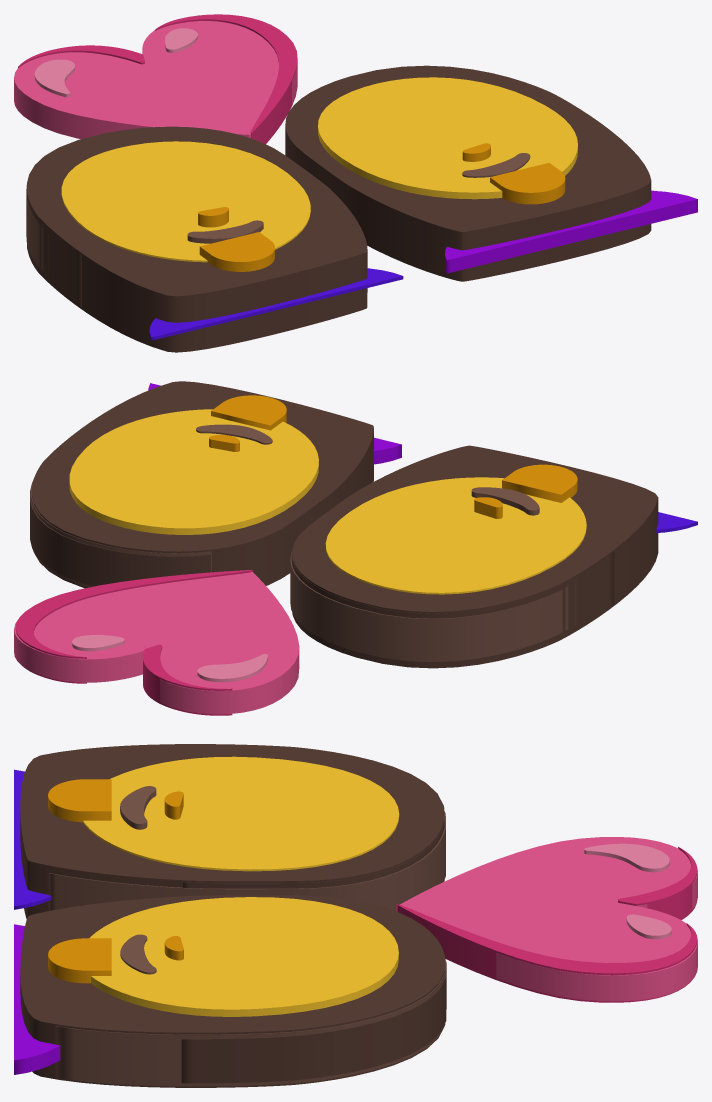
Rendered from emoji_u1f469_200d_2764_200d_1f469.glb.
The picture shows the model from 3 angles, top to bottom: view 1: azimuth 30°, elevation 25°; view 2: azimuth 150°, elevation 25°; view 3: azimuth 270°, elevation 25°; orthographic projection. The views are drawn at different scales.
Parts seen in each view (by area): view 1: emoji_u1f469_200d_2764_200d_1f469; view 2: emoji_u1f469_200d_2764_200d_1f469; view 3: emoji_u1f469_200d_2764_200d_1f469.
Part boxes in pixels (x1,y1,x2,y2): emoji_u1f469_200d_2764_200d_1f469: (14, 14, 697, 352); emoji_u1f469_200d_2764_200d_1f469: (14, 381, 697, 715); emoji_u1f469_200d_2764_200d_1f469: (14, 744, 697, 1087).
Size of the model in its own units: 0.0346 by 0.005 by 0.0337.
